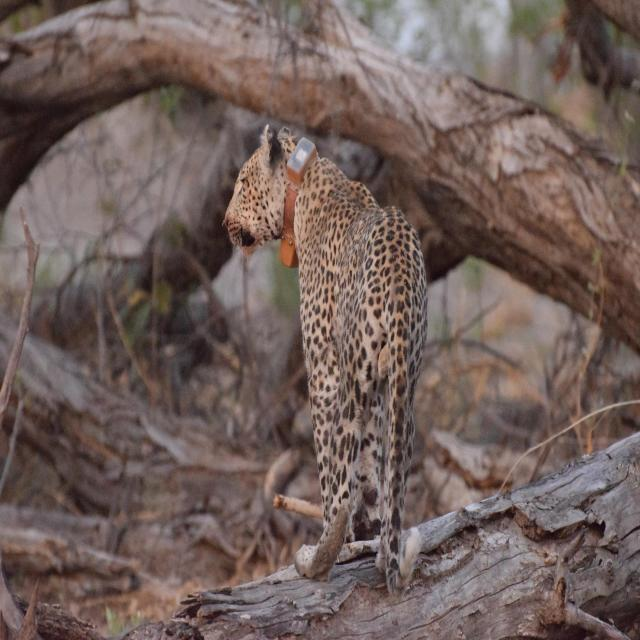Leopard: (229, 105, 424, 640)
